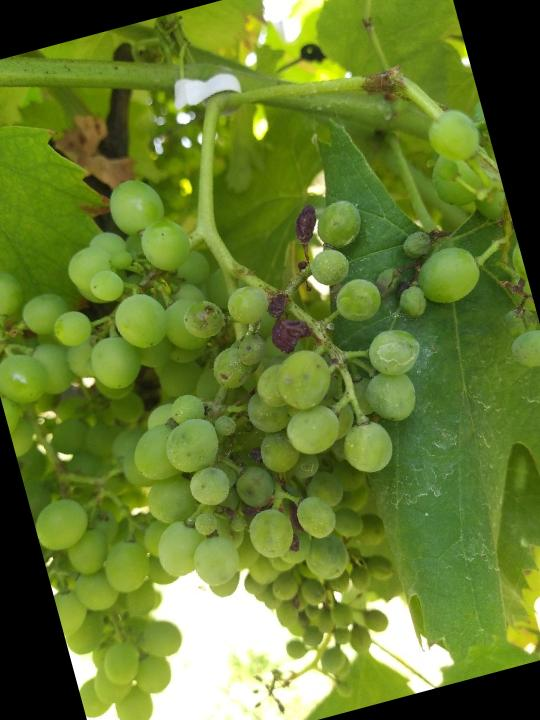grape: (21, 118, 476, 631)
